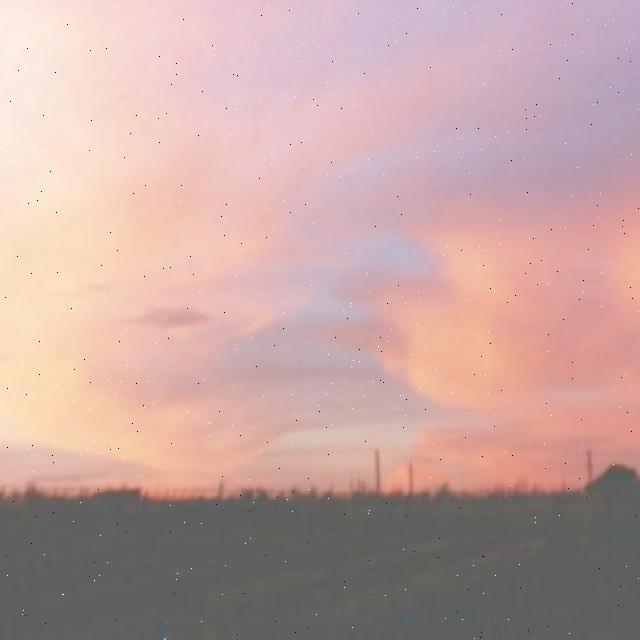Cs: (1, 30, 640, 459)
